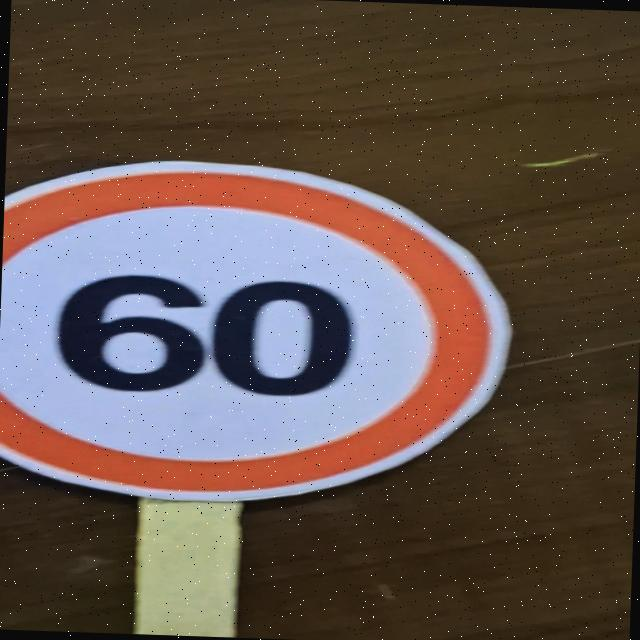Speed60: (0, 149, 527, 513)
